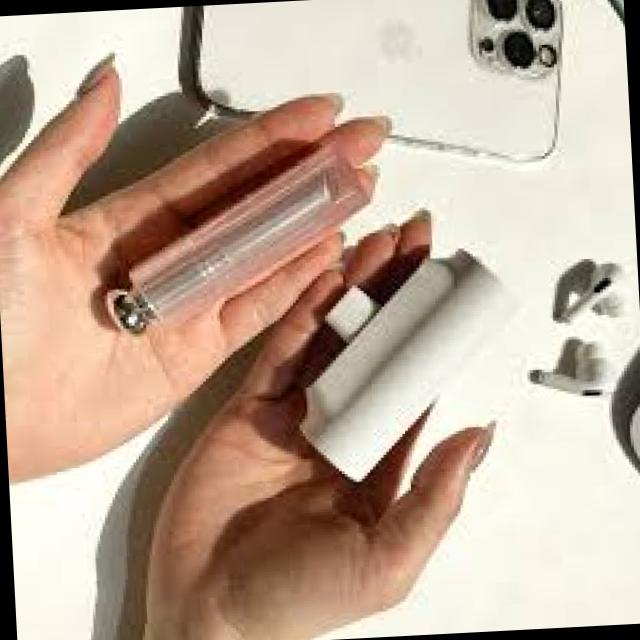portable-charger: (282, 250, 524, 487)
